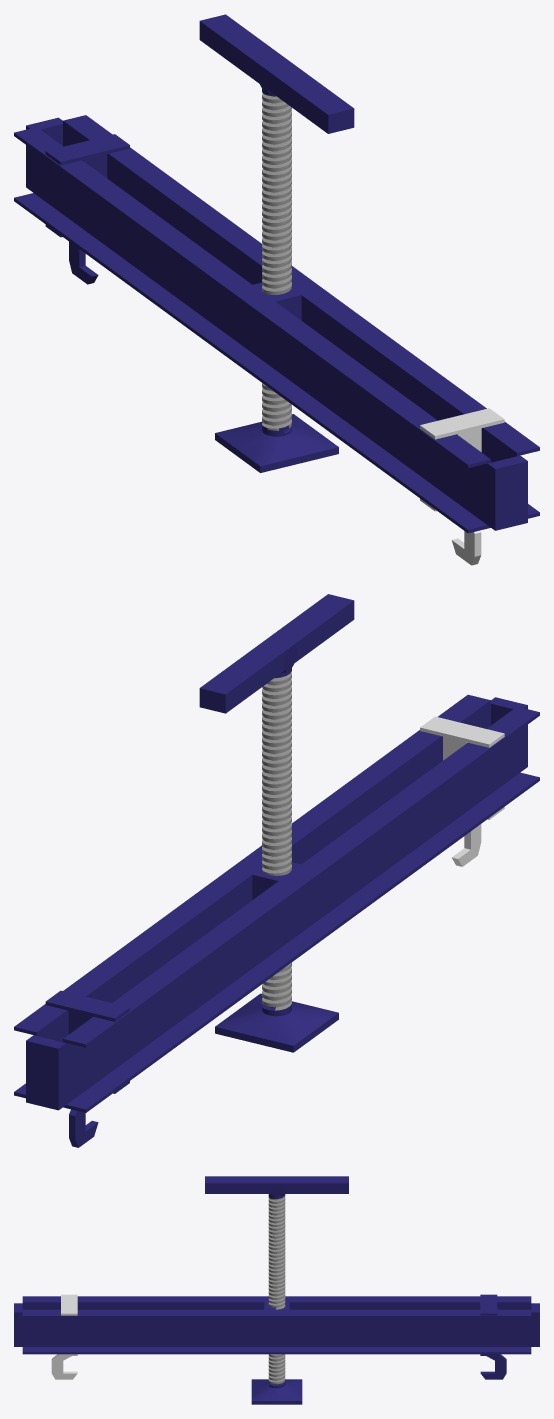
File: clamp-for-sbs.dae
3 views of the same model, one above another, from view 1: azimuth 30°, elevation 25°; view 2: azimuth 150°, elevation 25°; view 3: azimuth 270°, elevation 25° (orthographic). The views are drawn at different scales.
Visible parts, largest first — view 1: clamp-body, clamp-hand, clamp-hook-2, clamp-hook-1; view 2: clamp-body, clamp-hand, clamp-hook-1, clamp-hook-2; view 3: clamp-body, clamp-hand, clamp-hook-1, clamp-hook-2.
Part boxes in pixels (x1,y1,x2,y2): clamp-body: (14,115,539,533); clamp-hand: (199,14,354,472); clamp-hook-2: (420,408,504,565); clamp-hook-1: (45,134,129,284); clamp-body: (14,694,539,1112); clamp-hand: (199,594,354,1052); clamp-hook-1: (45,990,129,1147); clamp-hook-2: (420,716,504,866); clamp-body: (14,1296,539,1354); clamp-hand: (205,1176,348,1404); clamp-hook-1: (480,1294,506,1379); clamp-hook-2: (51,1294,77,1379).
Size of the model in its own units: 0.12 by 1.24 by 0.5576.
